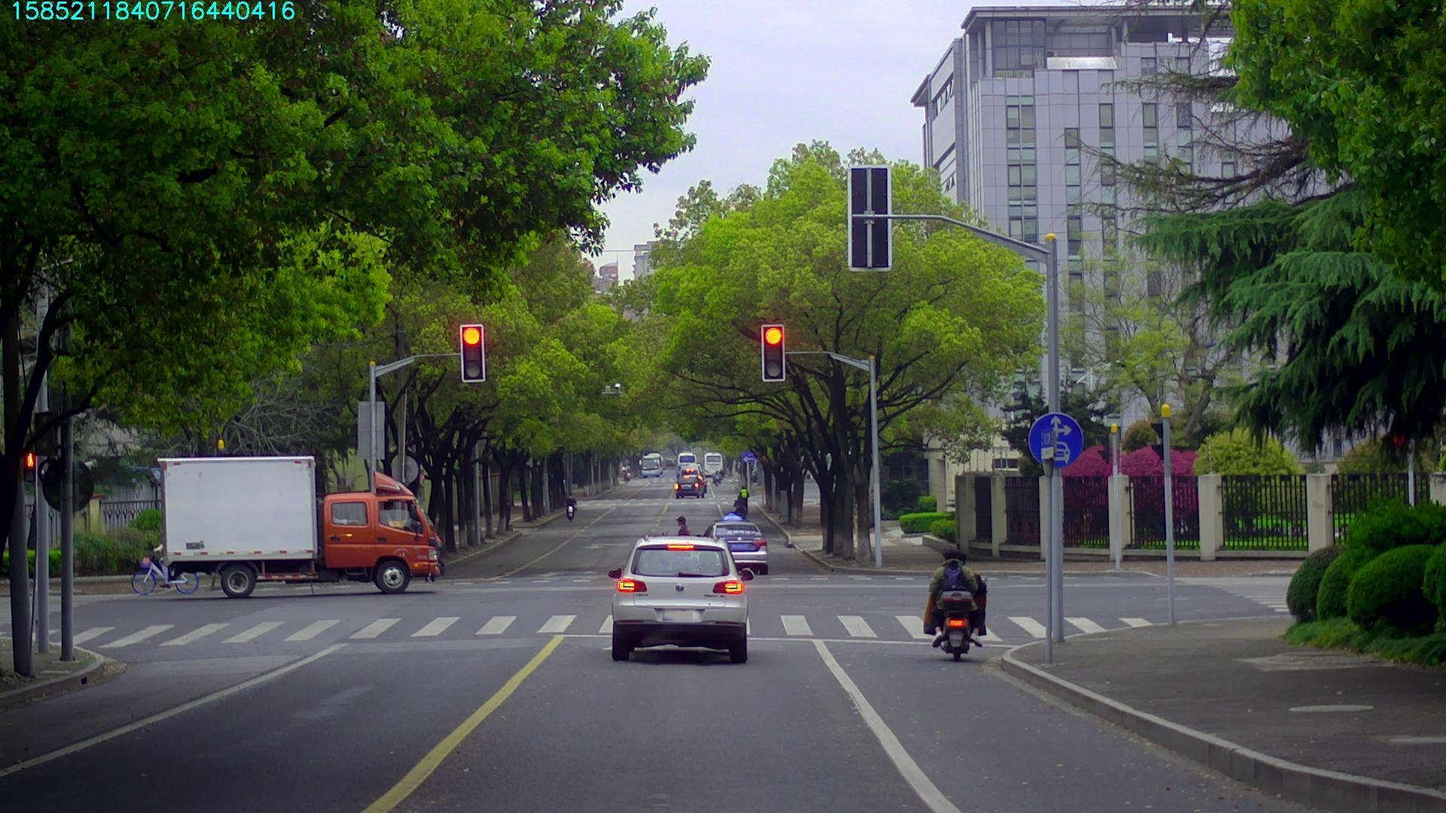red: (460, 326, 482, 380), (762, 326, 783, 379)
